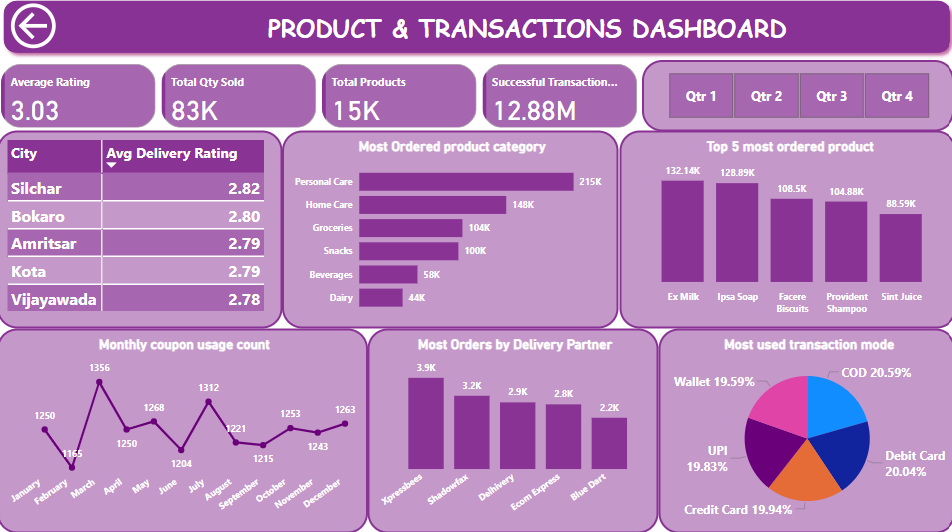

This screenshot's page, from the dashboard's own definition file:
{"tool":"powerbi","page":{"name":" Product & Transactions","canvas":[1280,720],"ordinal":3},"visuals":[{"type":"barChart","title":"Most Ordered product category","fields":{"Y":["Sum(Orders.Order Amount)"],"Category":["Products.Category"]},"box":[380.5,183,448.5,263.9],"z":0},{"type":"clusteredColumnChart","title":"Top 5 most ordered product","fields":{"Category":["Products.PName"],"Y":["Sum(Orders.Order Amount)"]},"box":[829,183,450.1,263.9],"z":1000},{"type":"lineChart","title":"Monthly coupon usage count","fields":{"Category":["Orders.Order_Date.Variation.Date Hierarchy.Month"],"Y":["CountNonNull(Orders.Coupon_Discount)"]},"box":[0,446.6,494.6,273.4],"z":2000},{"type":"pieChart","title":"Most used transaction mode  ","fields":{"Category":["Transactions.Transaction_Mode"],"Y":["CountNonNull(Transactions.Tr_ID)"]},"box":[882.8,446.6,396.5,273.4],"z":3000},{"type":"columnChart","title":"Most Orders by Delivery Partner","fields":{"Category":["Delivery.Delivery Partner"],"Y":["CountNonNull(Orders.Or_ID)"]},"box":[494.6,446.6,388.2,273.4],"z":4000},{"type":"cardVisual","fields":{"Data":["New Measures.Average Rating","Sum(Orders.Qty)","CountNonNull(Products.P_ID)","New Measures.Success_trans_amt"]},"box":[0,87.4,859.8,95.5],"z":5000},{"type":"shape","box":[0,0,1280.8,87.4],"z":6000},{"type":"textbox","box":[289.8,16.2,833.9,55.1],"z":7000},{"type":"actionButton","box":[11.3,6.5,92.3,72.9],"z":8000},{"type":"tableEx","fields":{"Values":["Customers.City","Avg(Ratings.Delivery/Service_Rating)"]},"box":[0,183,380.5,263.9],"z":9000},{"type":"slicer","fields":{"Values":["Orders.Order_Date.Variation.Date Hierarchy.Quarter"]},"box":[860.8,87.1,417.2,95.2],"z":10000}]}

Visuals, with their boxes in screenshot pixels (x1, y1, x2, y2), scaled from the page's 1280x720 canvas onto the 952x532 screenshot:
"Most Ordered product category" barChart: {"left": 283, "top": 135, "right": 617, "bottom": 330}
"Top 5 most ordered product" clusteredColumnChart: {"left": 617, "top": 135, "right": 951, "bottom": 330}
"Monthly coupon usage count" lineChart: {"left": 0, "top": 330, "right": 368, "bottom": 531}
"Most used transaction mode  " pieChart: {"left": 657, "top": 330, "right": 951, "bottom": 531}
"Most Orders by Delivery Partner" columnChart: {"left": 368, "top": 330, "right": 657, "bottom": 531}
cardVisual - New Measures.Average Rating x Sum(Orders.Qty): {"left": 0, "top": 65, "right": 639, "bottom": 135}
shape: {"left": 0, "top": 0, "right": 951, "bottom": 65}
textbox: {"left": 216, "top": 12, "right": 836, "bottom": 53}
actionButton: {"left": 8, "top": 5, "right": 77, "bottom": 59}
tableEx - Customers.City x Avg(Ratings.Delivery/Service_Rating): {"left": 0, "top": 135, "right": 283, "bottom": 330}
slicer - Orders.Order_Date.Variation.Date Hierarchy.Quarter: {"left": 640, "top": 64, "right": 951, "bottom": 135}
